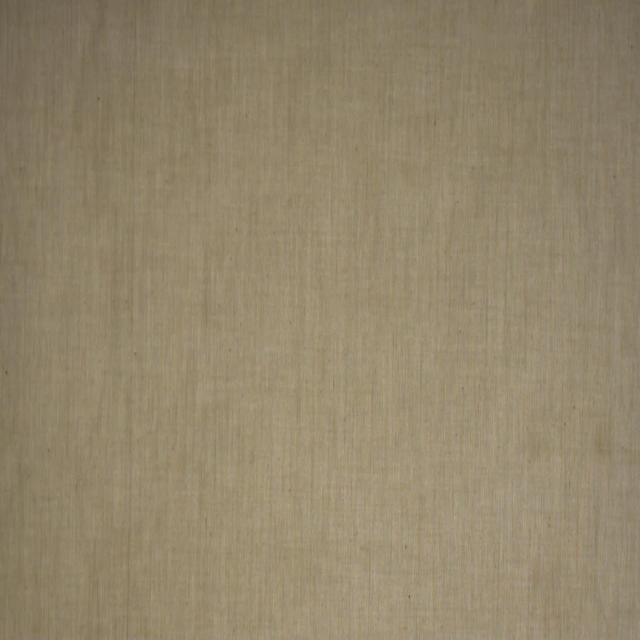dirty: (595, 421, 616, 454)
